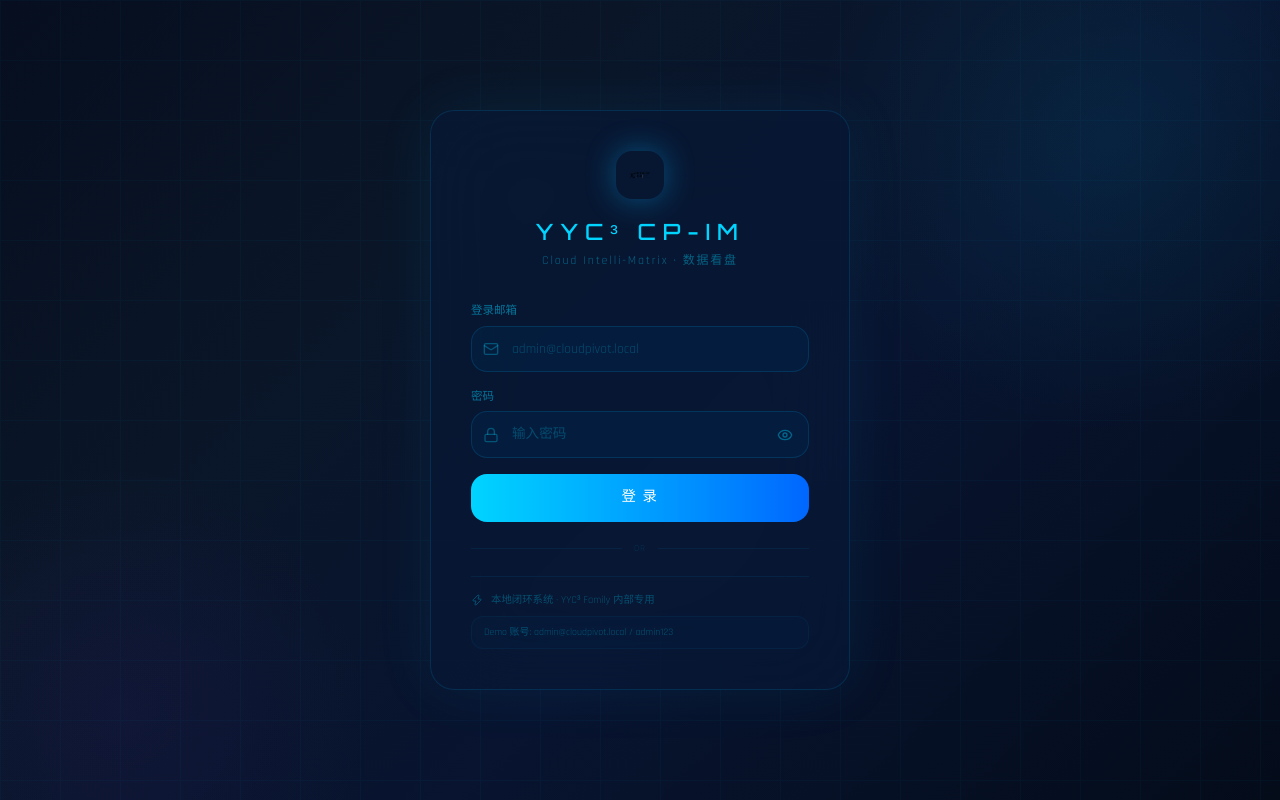
Scenario: Login Component › should show error message on login failure
Type "test@example.com" into the field with test id "login-email-input" at (640, 349), box [471, 326, 809, 372]
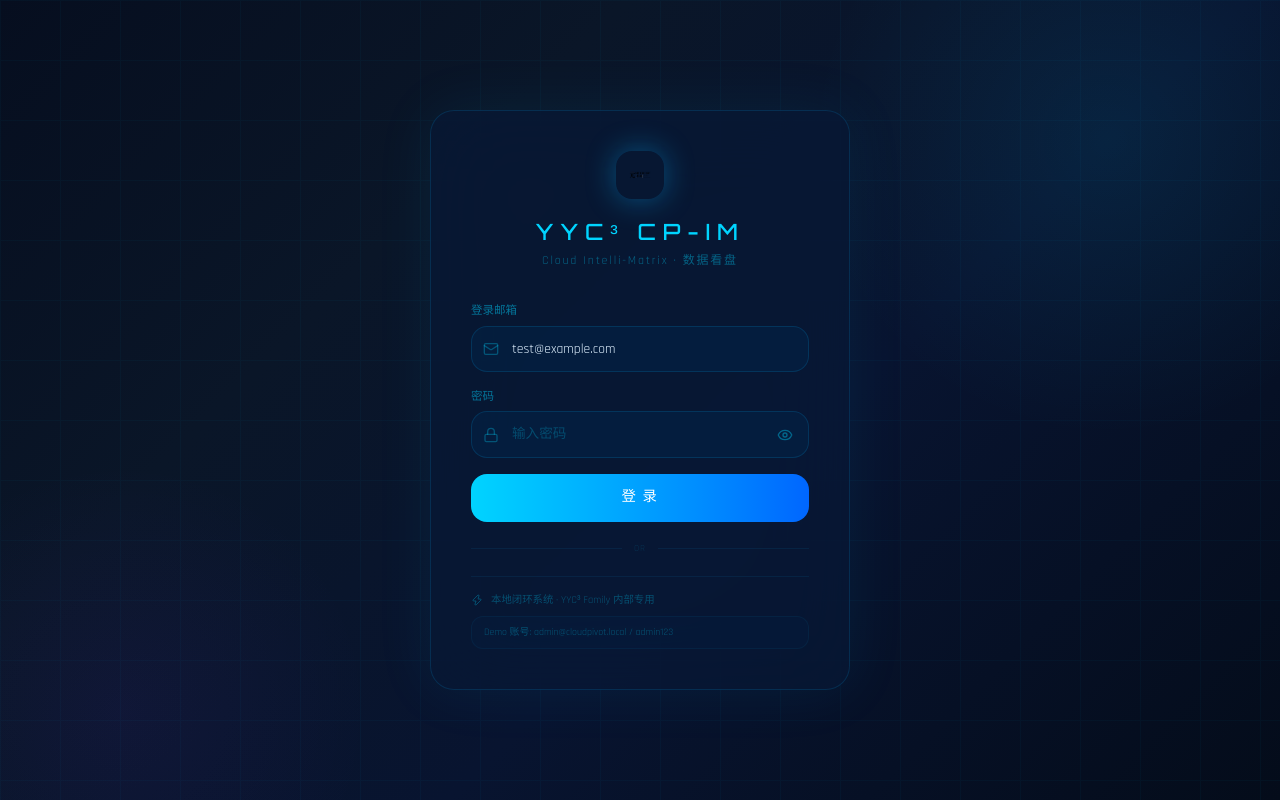
Type "wrongpassword" into the password field with test id "login-password-input" at (640, 435), box [471, 411, 809, 458]
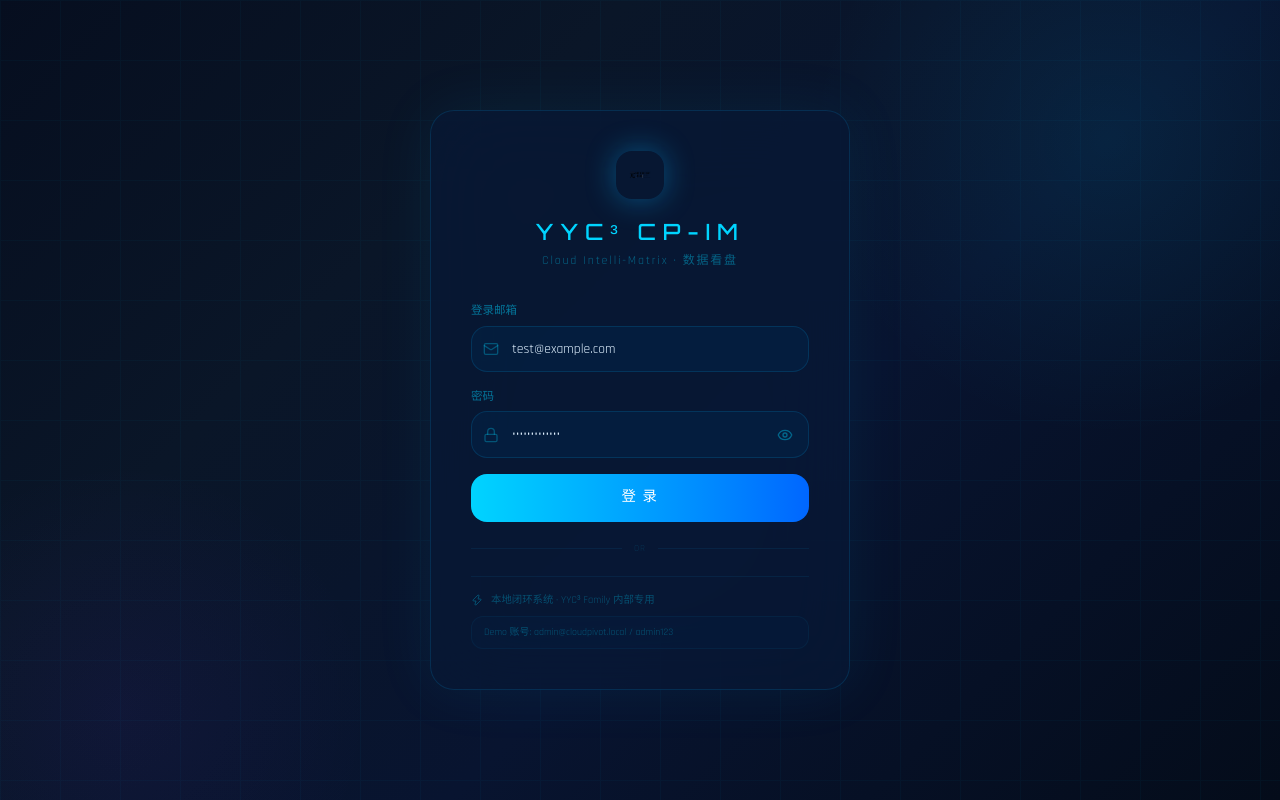
Click the button with test id "login-submit-button" at (640, 498), box [471, 474, 809, 522]
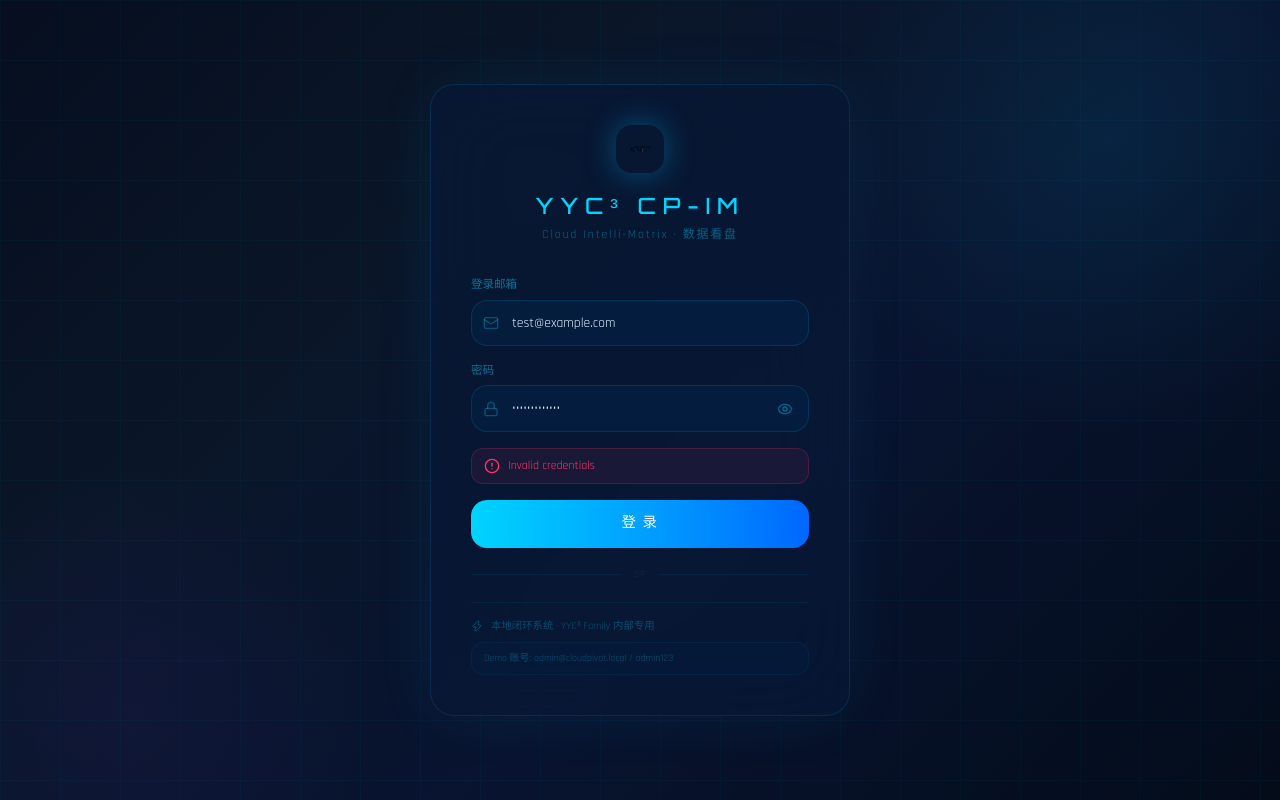
Result: the text "Invalid credentials" is shown at [508, 457, 595, 475]
